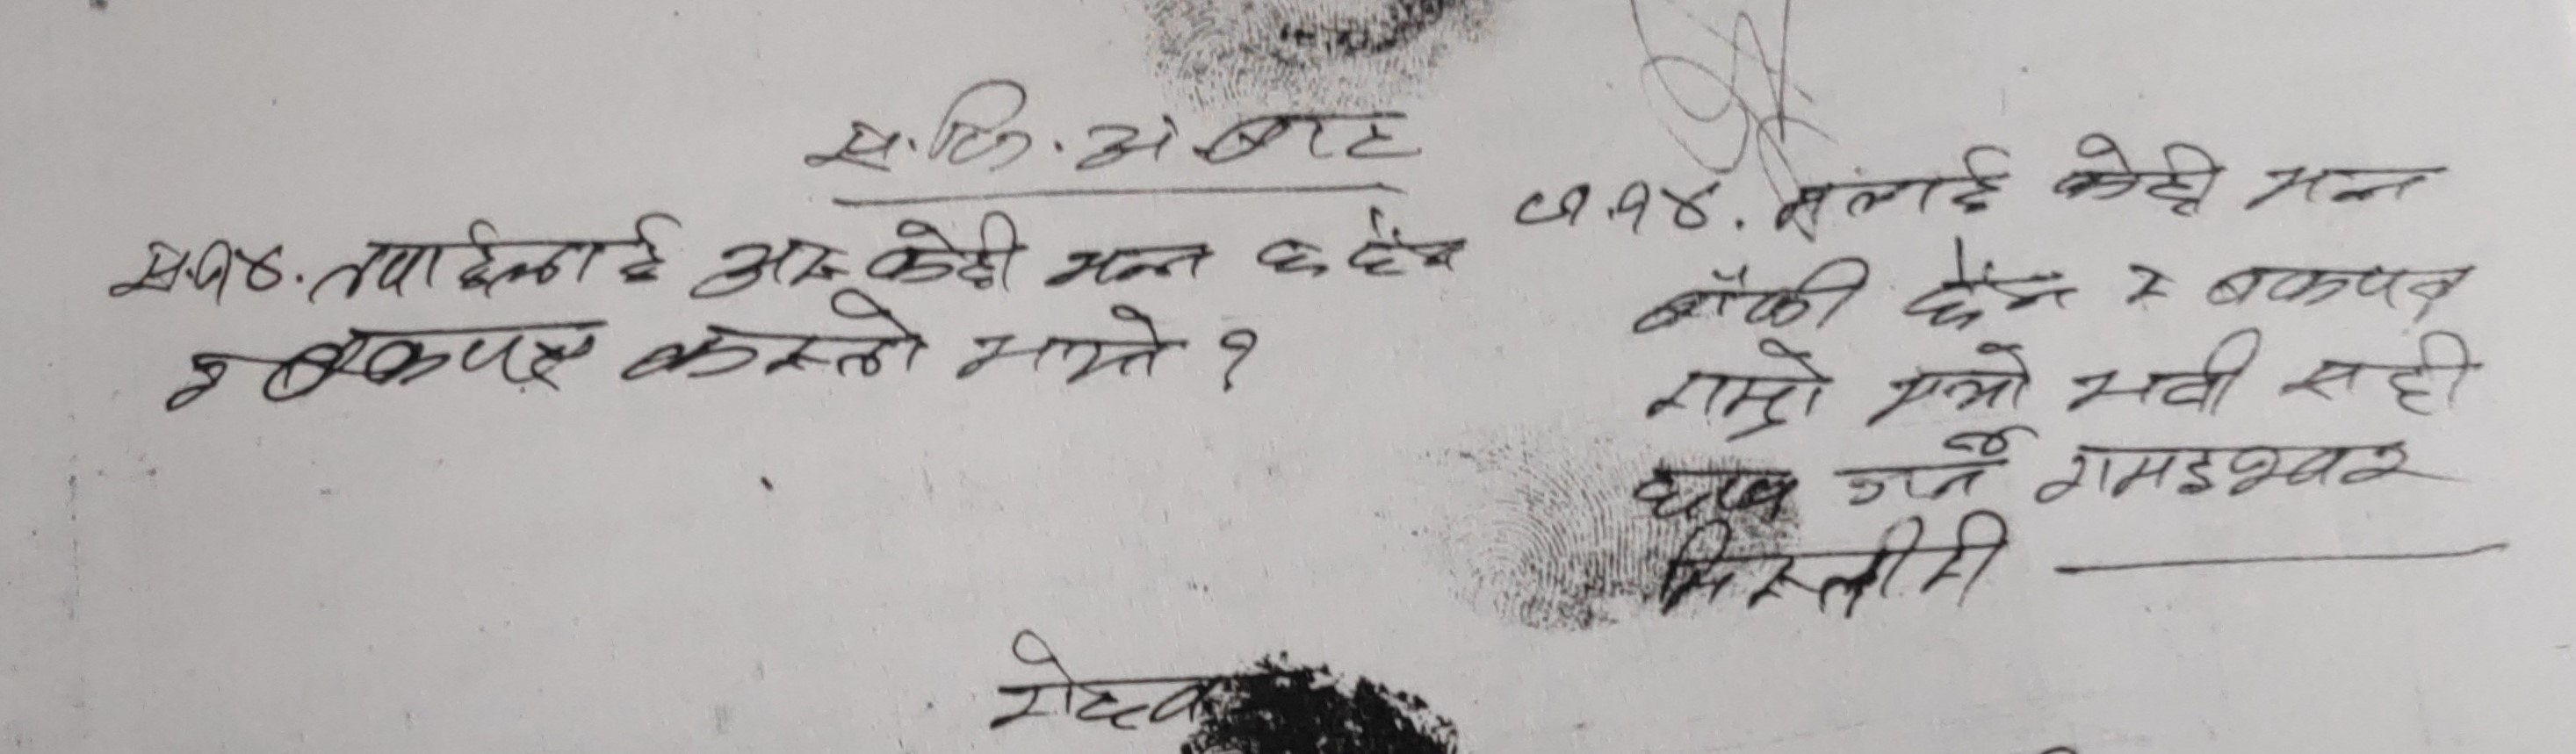text: (1646, 513, 2016, 632), (2029, 429, 2459, 517), (302, 207, 680, 307), (616, 299, 931, 393), (795, 72, 1045, 182), (256, 322, 603, 401), (984, 624, 1209, 739), (1773, 133, 2008, 241), (1083, 105, 1429, 174), (2060, 322, 2269, 432), (1625, 250, 1878, 338), (954, 302, 1171, 394), (1643, 338, 1833, 440), (2280, 327, 2472, 417), (1894, 240, 2078, 329), (2050, 125, 2224, 218), (2200, 258, 2469, 317), (1503, 172, 1727, 243), (859, 200, 1028, 291), (1832, 427, 2011, 504), (1868, 338, 2039, 419), (2236, 156, 2448, 220), (103, 232, 287, 304), (688, 225, 843, 301), (1626, 460, 1796, 526), (1345, 202, 1465, 283), (1050, 240, 1216, 297), (1253, 225, 1334, 286), (2123, 255, 2172, 319)
